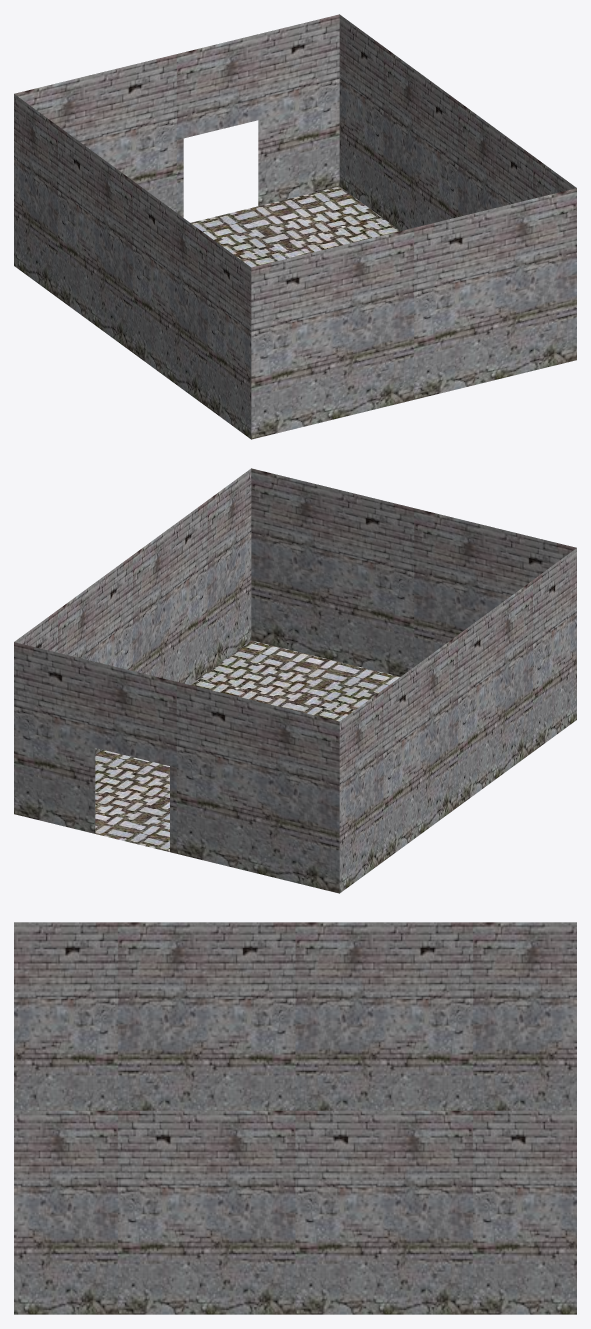
3 renders of one model, top to bottom at view 1: azimuth 30°, elevation 25°; view 2: azimuth 150°, elevation 25°; view 3: azimuth 270°, elevation 25°, orthographic. The views are drawn at different scales.
Visible parts, largest first — view 1: Box302; view 2: Box302; view 3: Box302.
Boxes of the visible parts, x1,y1,x2,y2 form: Box302: (14,14,576,439); Box302: (14,468,576,893); Box302: (14,922,576,1314).
Bounding box in the file's own units: 396 × 200 × 500.
